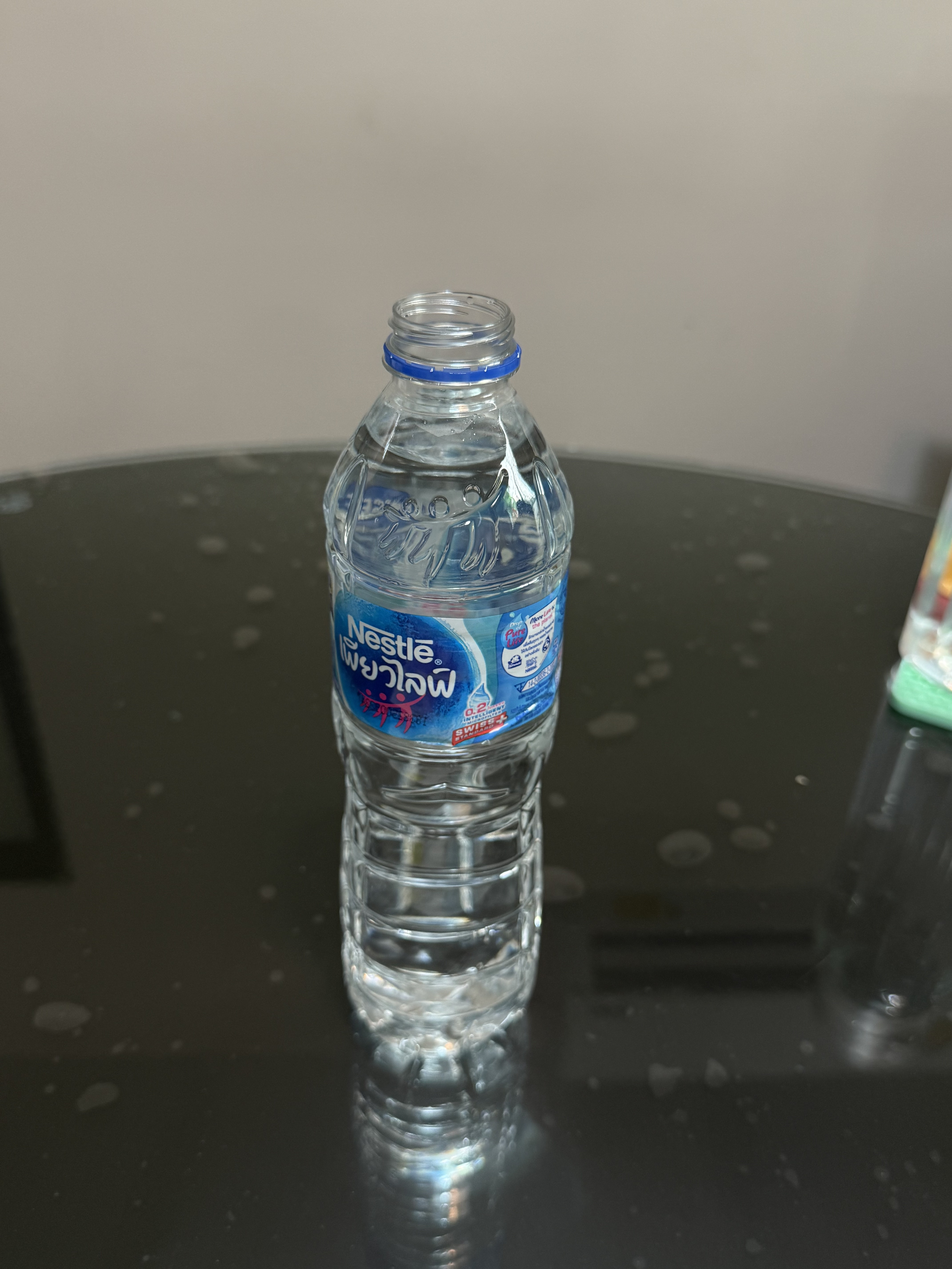no_cap: (381, 288, 523, 385)
